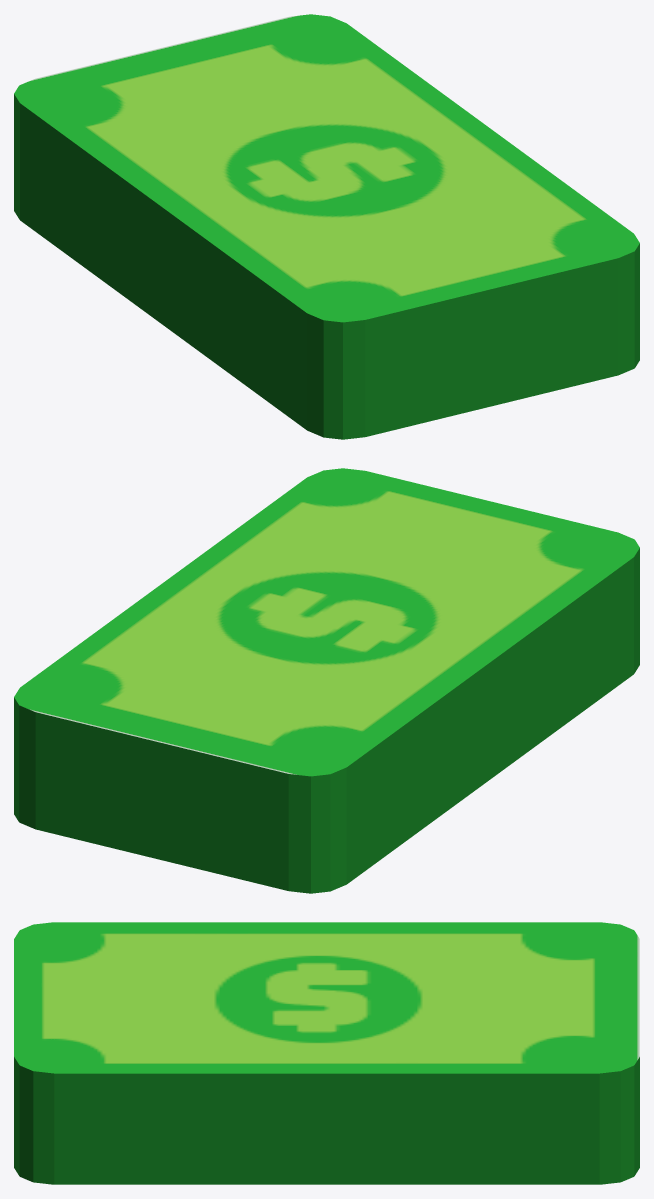
The model's file is Money.fbx.
The picture shows the model from 3 angles, top to bottom: view 1: azimuth 30°, elevation 25°; view 2: azimuth 150°, elevation 25°; view 3: azimuth 270°, elevation 25°; orthographic projection. The views are drawn at different scales.
Parts seen in each view (by area): view 1: Cube; view 2: Cube; view 3: Cube.
Part boxes in pixels (left/top/right/bottom): Cube: left=14, top=14, right=639, bottom=439; Cube: left=14, top=468, right=639, bottom=893; Cube: left=14, top=922, right=639, bottom=1184.
Size of the model in its own units: 0.9917 by 0.34 by 1.73.
